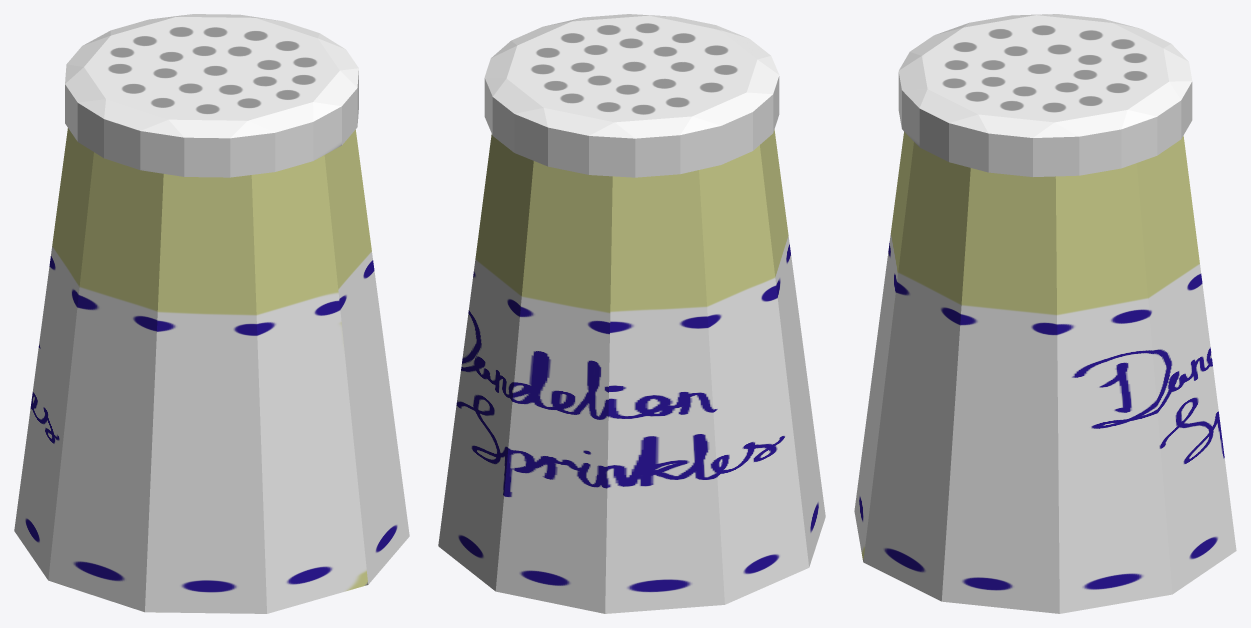
The model's file is Dandelion Sprinkle.fbx.
3 views of the same model, side by side, from view 1: azimuth 30°, elevation 25°; view 2: azimuth 150°, elevation 25°; view 3: azimuth 270°, elevation 25° (orthographic).
Parts seen in each view (by area): view 1: Dandelion Sprinkles; view 2: Dandelion Sprinkles; view 3: Dandelion Sprinkles.
Part boxes in pixels (x1=…): Dandelion Sprinkles: x1=14, y1=14, x2=409, y2=613; Dandelion Sprinkles: x1=438, y1=14, x2=825, y2=613; Dandelion Sprinkles: x1=854, y1=14, x2=1236, y2=613.
Size of the model in its own units: 365 by 474 by 355.
